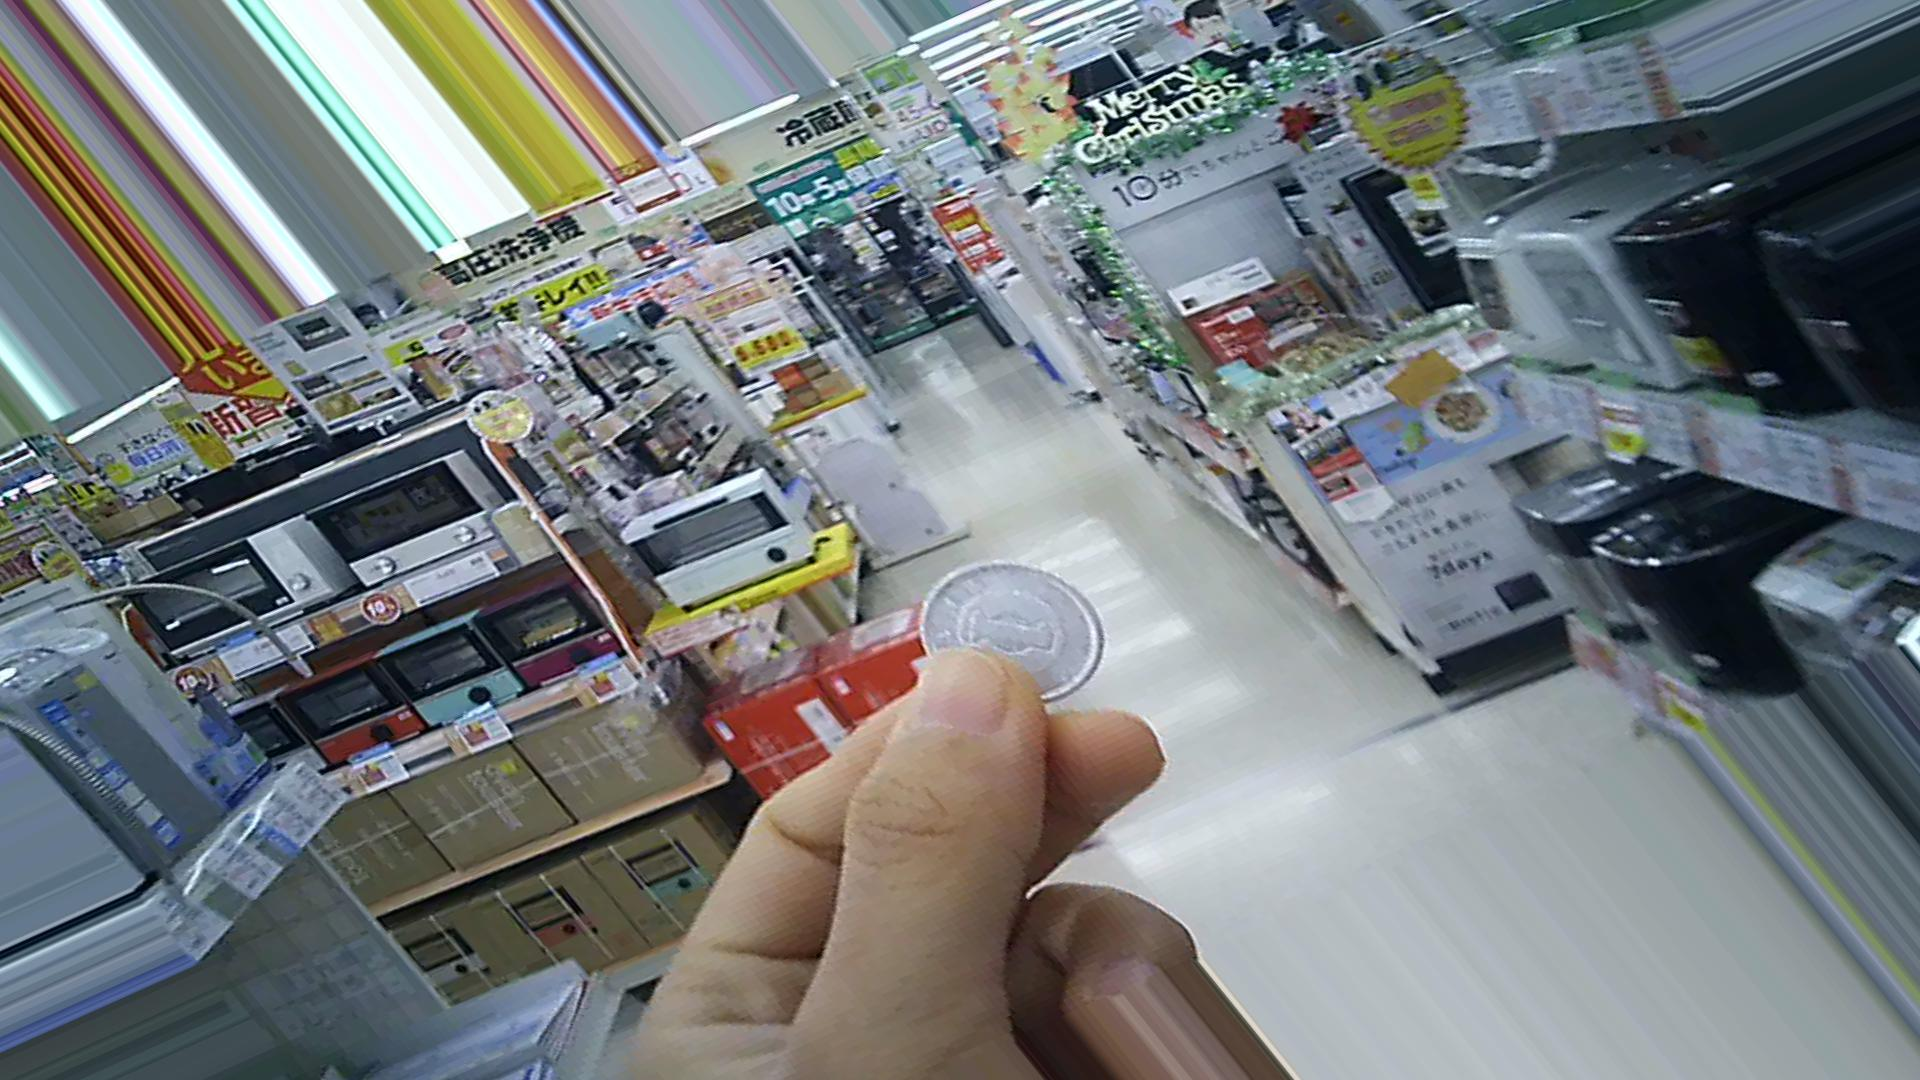1 Yen: (903, 556, 1120, 727)
